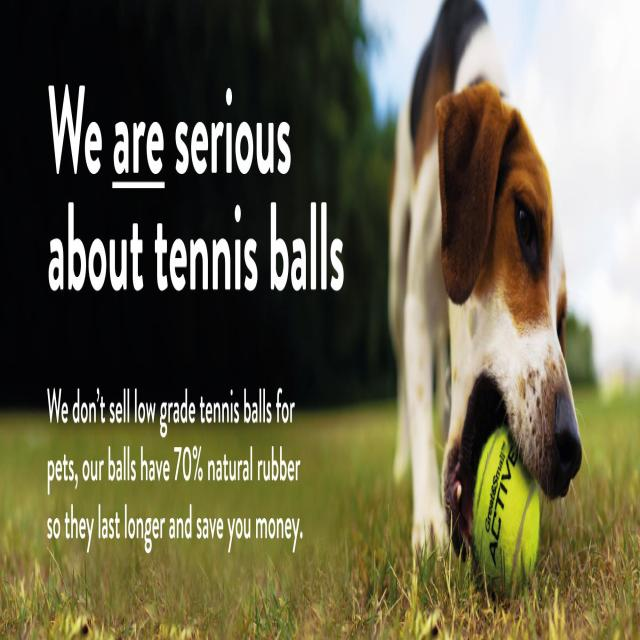ball: (471, 424, 544, 598)
